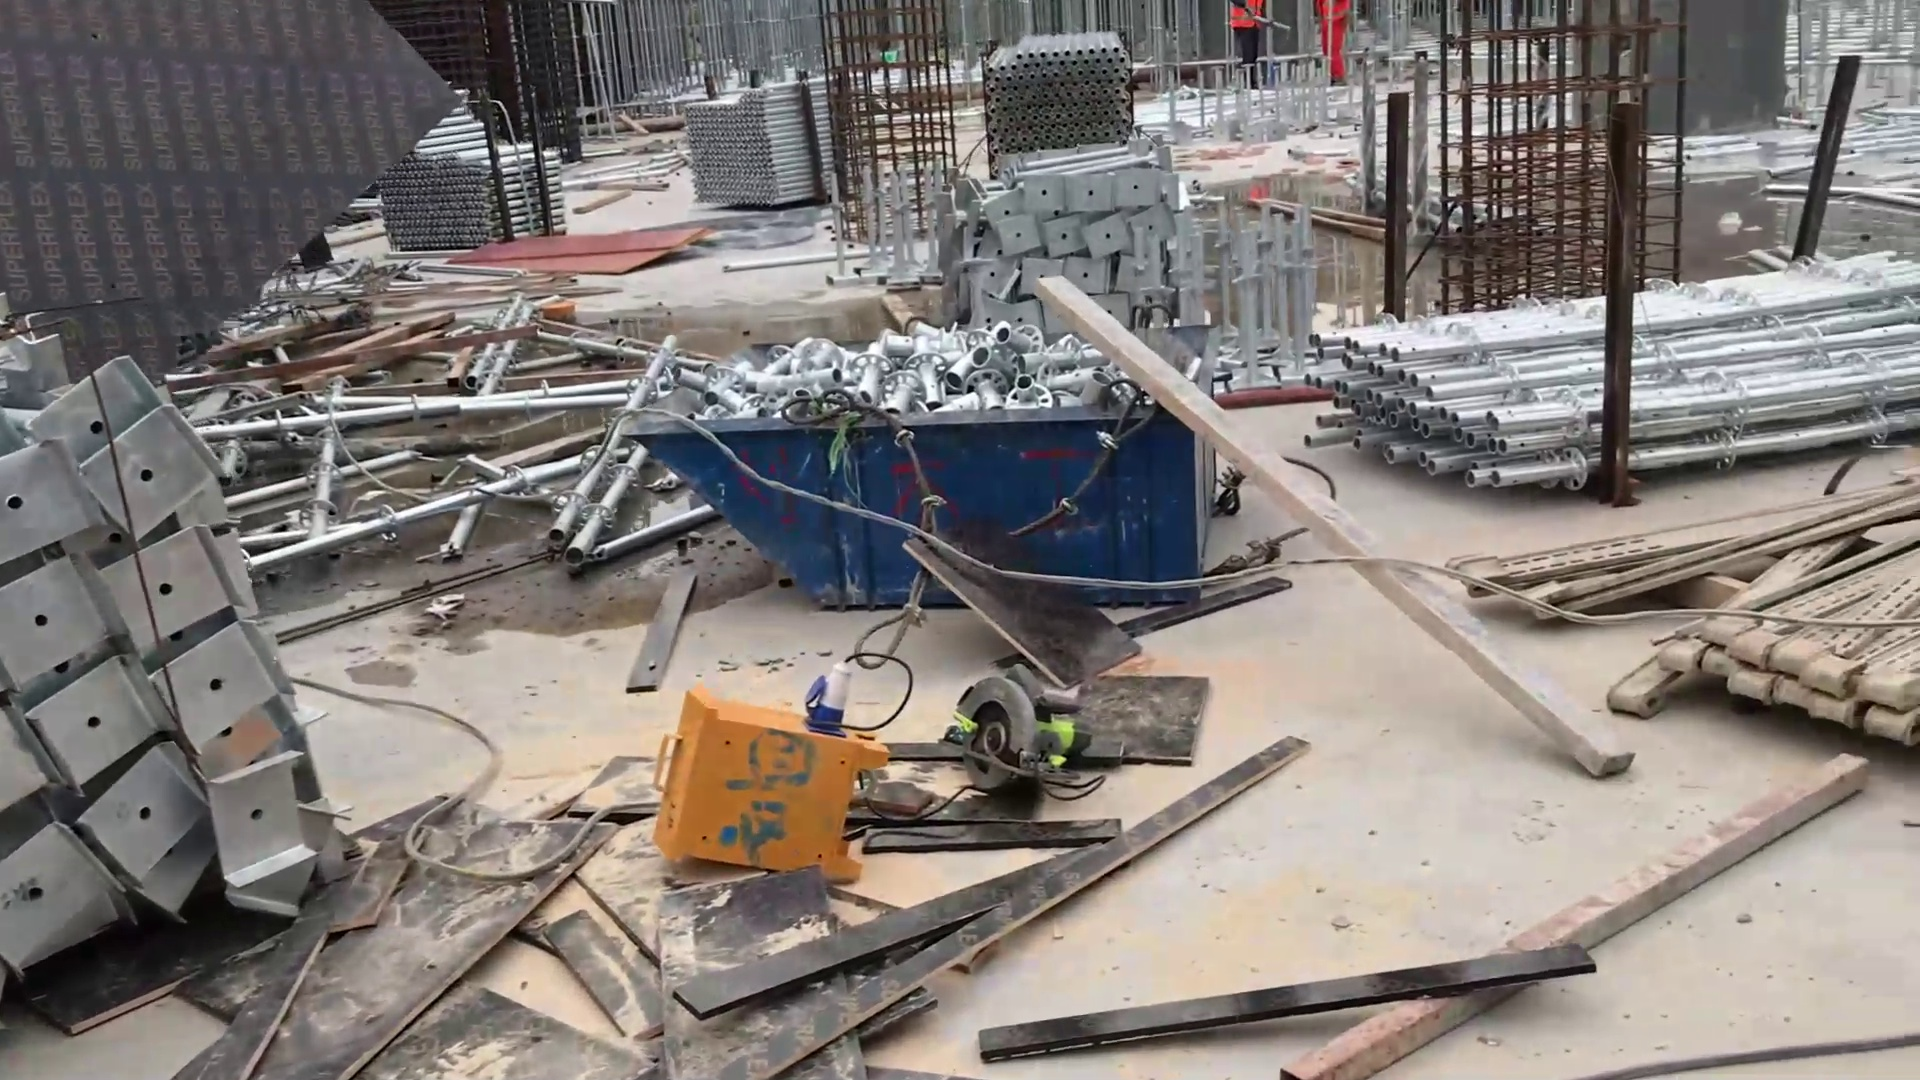cutter: (936, 649, 1111, 808)
ebox: (654, 660, 893, 898)
hopper: (610, 335, 1244, 620)
person: (1225, 1, 1270, 85), (1317, 1, 1354, 89)
scaffold: (1, 304, 349, 986), (1310, 245, 1920, 496), (977, 150, 1218, 356), (375, 113, 581, 255), (680, 74, 844, 212), (981, 26, 1144, 145)
vest: (1225, 1, 1266, 38)
